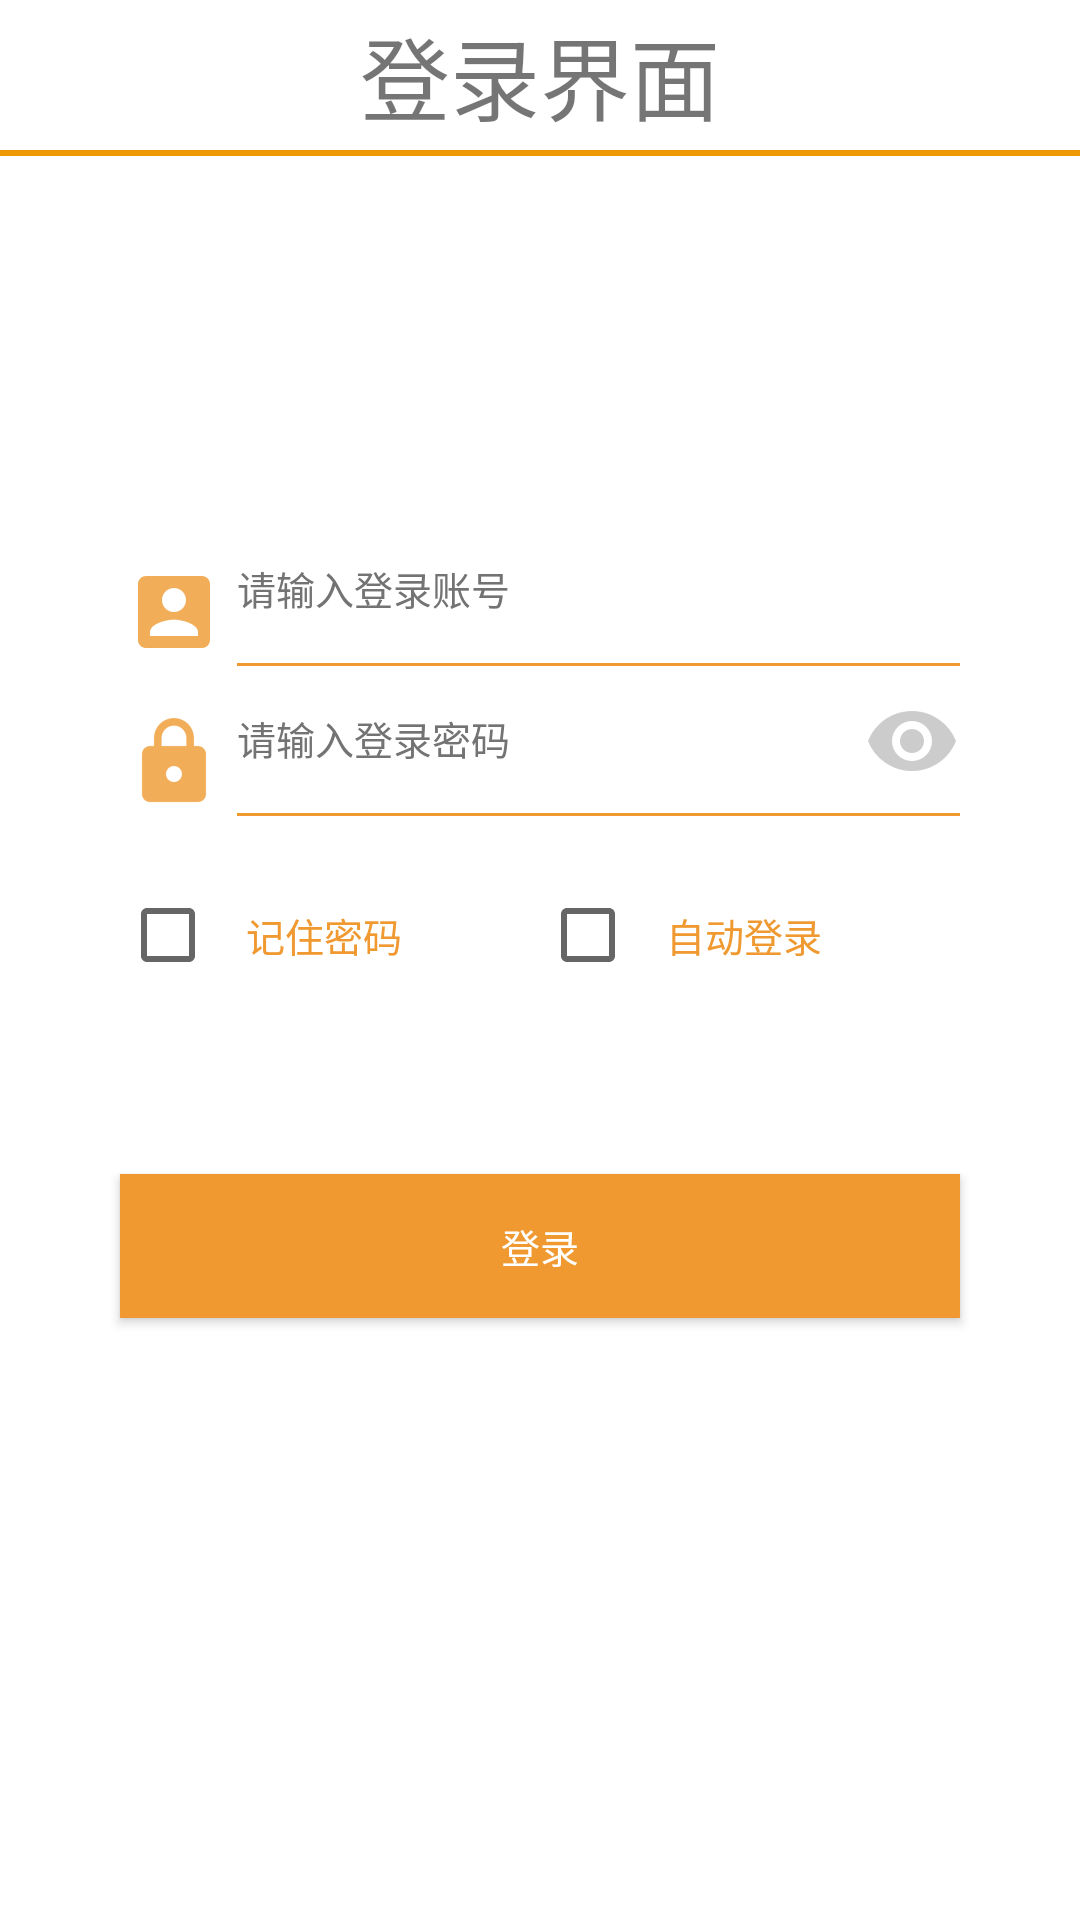

Icon click points for this 1080px x 1920px phone screenshot, format [x,y]:
login account: [174,612]
login pw: [174,760]
